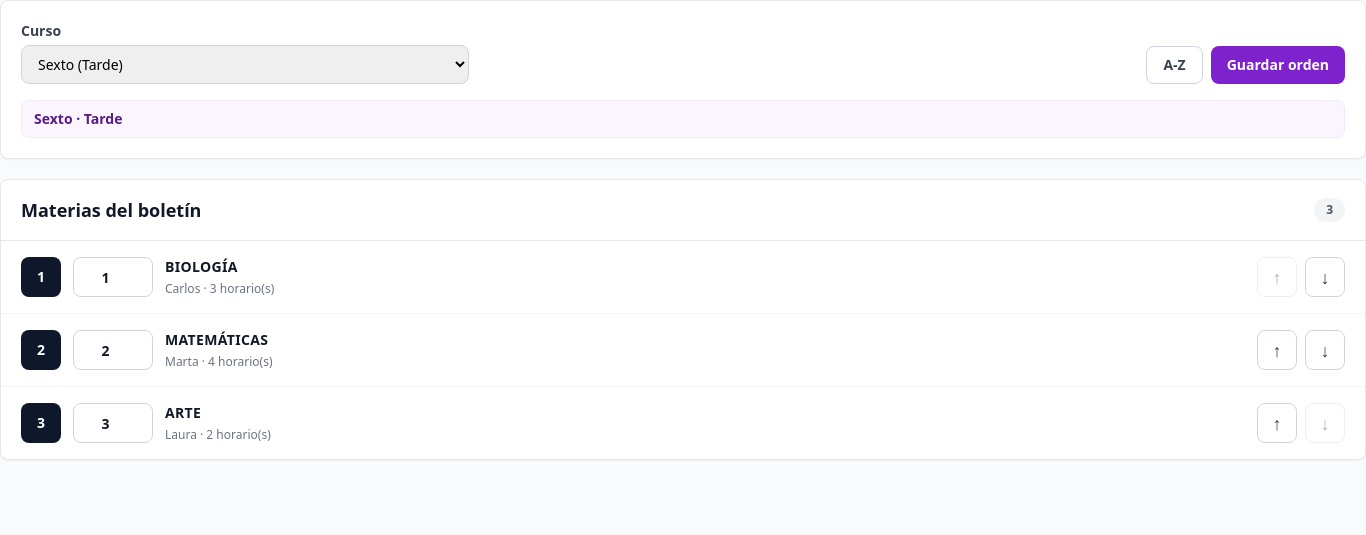
it: OrdenBoletin › respeta el orden recibido, permite mover y conserva el contrato al guardar
The image size is (1366, 535).
Expected: the number field named "Posición de Biología" holds "1", x1=73 y1=257 x2=153 y2=297
Expected: the number field named "Posición de Matemáticas" holds "2", x1=73 y1=330 x2=153 y2=370
Click the button named "Bajar Biología" at (1325, 277), box x1=1305 y1=257 x2=1345 y2=297
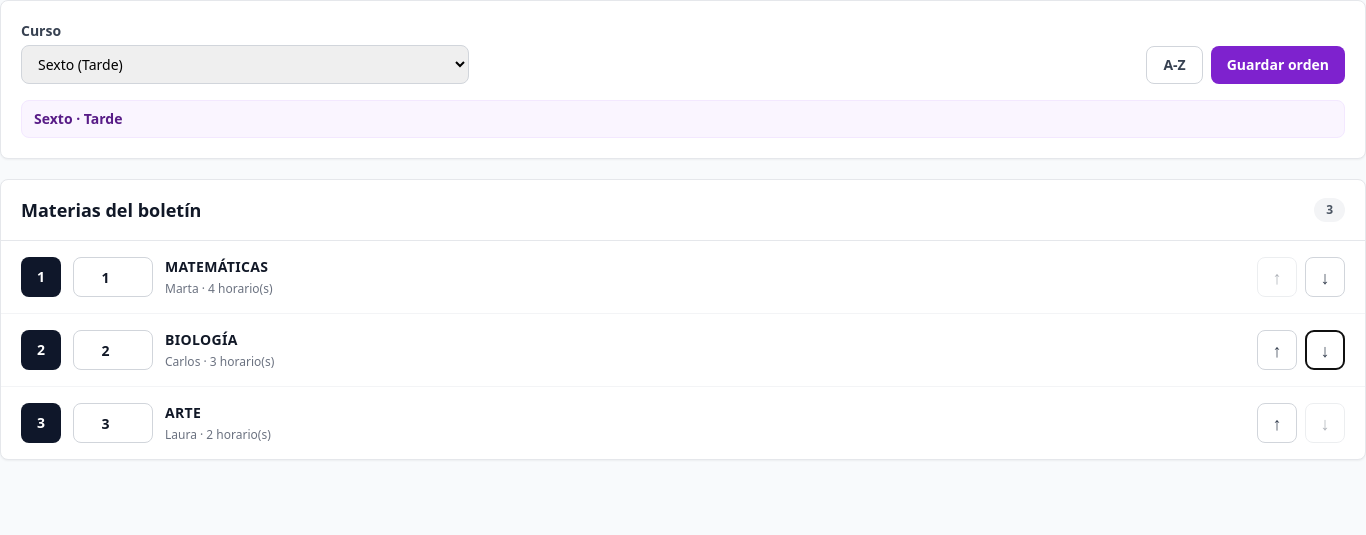
Expected: the number field named "Posición de Matemáticas" holds "1", x1=73 y1=257 x2=153 y2=297
Expected: the number field named "Posición de Biología" holds "2", x1=73 y1=330 x2=153 y2=370
Click the button "Guardar orden" at (1278, 65), box x1=1211 y1=46 x2=1345 y2=84
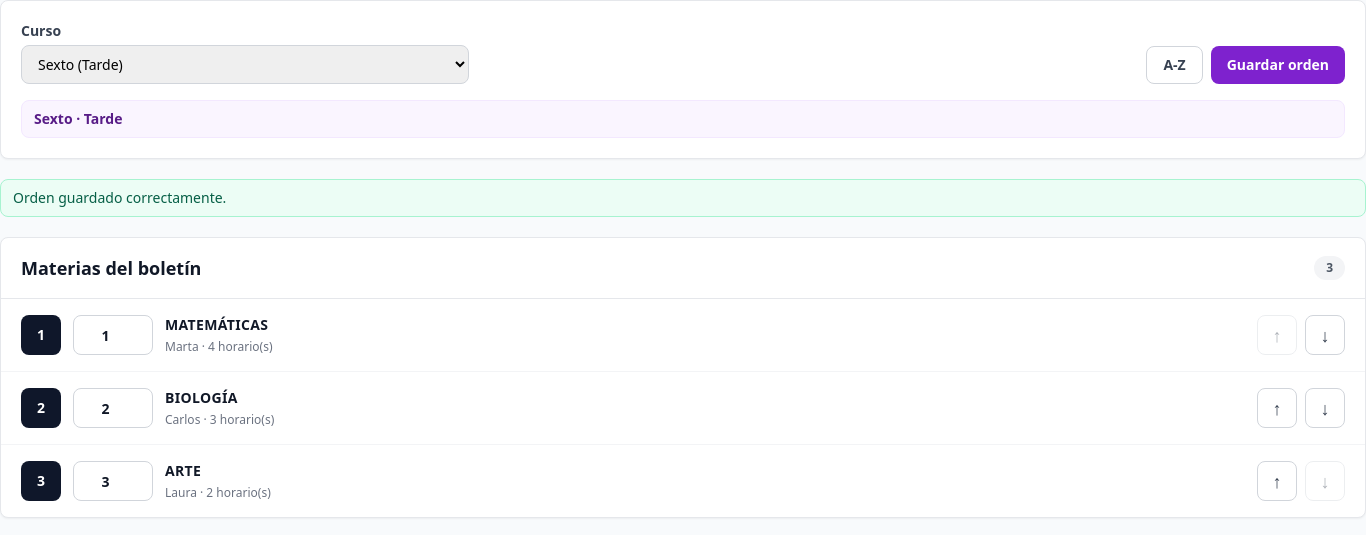
Now the text "Orden guardado correctamente." is shown, box x1=0 y1=179 x2=1365 y2=217
